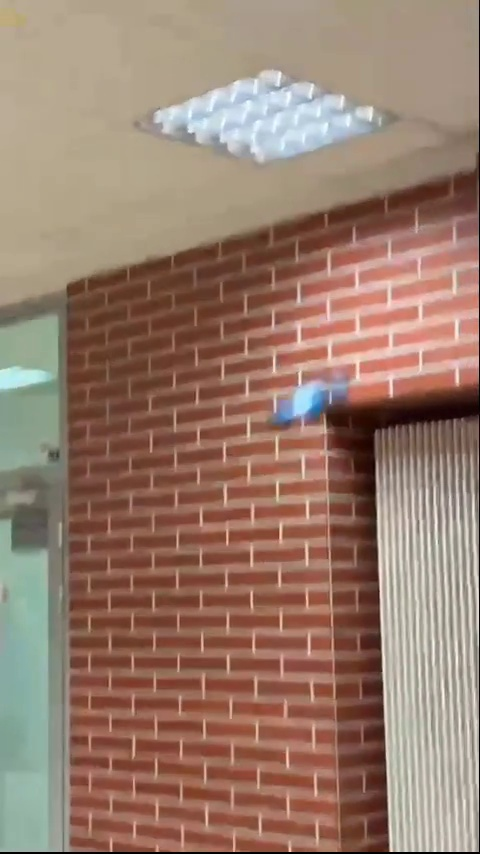drone: (267, 377, 352, 423)
